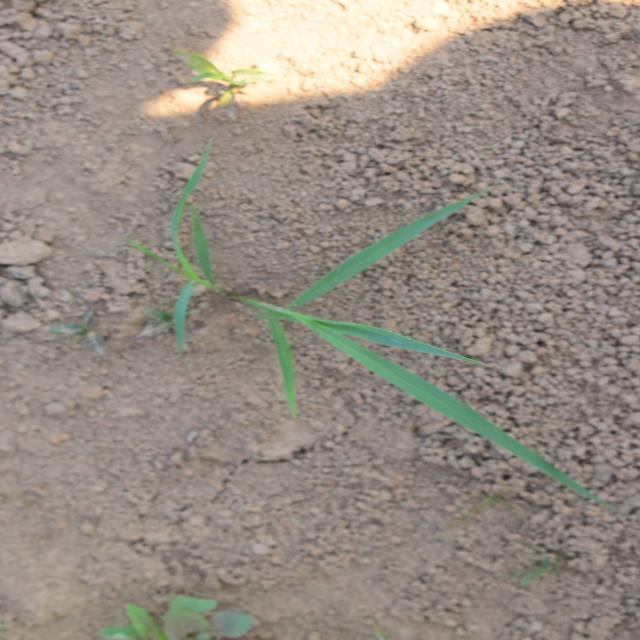green_foxtail: (162, 255, 443, 524)
